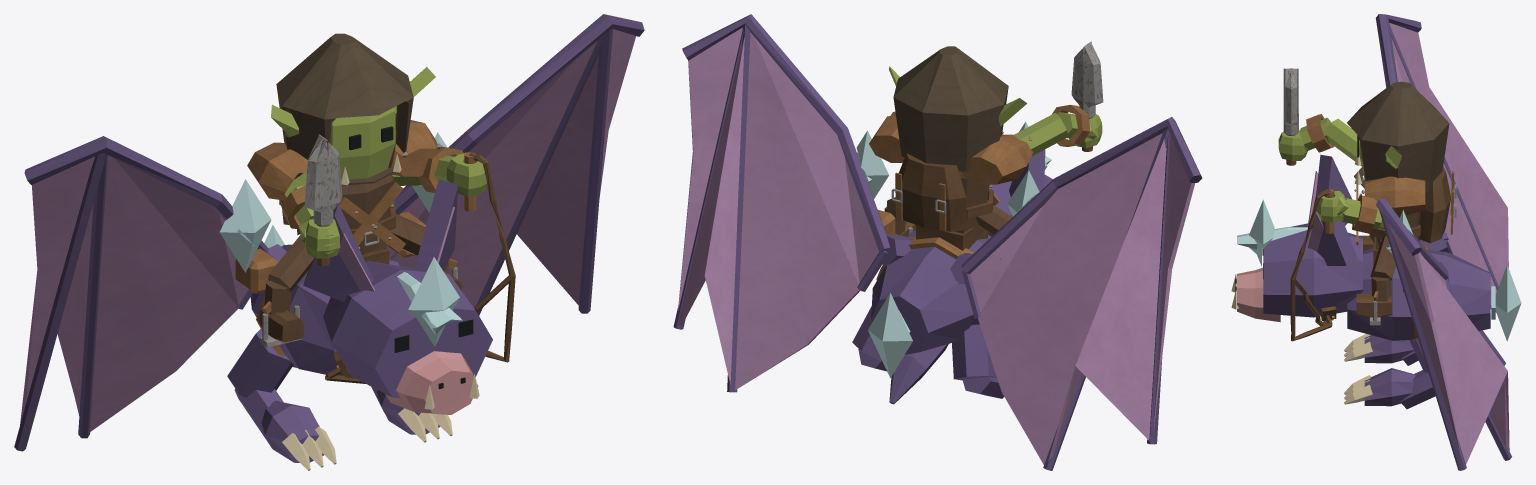
File: host_29.glb
3 renders of one model, left to right at view 1: azimuth 30°, elevation 25°; view 2: azimuth 150°, elevation 25°; view 3: azimuth 270°, elevation 25°, orthographic. The views are drawn at different scales.
Visible parts, largest first — view 1: Bat source connected muzzle, skull, native limbs and membran, Rider one connected body, skull, ears, two arms, compact pal, Rider true deep peaked open source cowl, One of EXACT FOUR substantial pale source shield crystals 0, One of EXACT FOUR substantial pale source shield crystals 2, Rider RIGHT source weapon real volumetric blade, Rider actual convex three-plane source pauldron 1, Rider actual convex three-plane source pauldron -1, Rider real shaped source torso clothing shell, Rider connected bridle rein 1, Rider compact source saddle pouch 1, Rider connected bridle rein -1 (+5 smaller); view 2: Bat source connected muzzle, skull, native limbs and membran, Rider true deep peaked open source cowl, Rider actual source broad rear leather pack, Rider one connected body, skull, ears, two arms, compact pal, Rider actual convex three-plane source pauldron 1, One of EXACT FOUR substantial pale source shield crystals 3, Rider RIGHT source weapon real volumetric blade, Rider actual convex three-plane source pauldron -1, One of EXACT FOUR substantial pale source shield crystals 1, Source small curved seat following actual bat back, Rider RIGHT actual open sleeve cuff, Rider real shaped source torso clothing shell (+2 smaller); view 3: Bat source connected muzzle, skull, native limbs and membran, Rider true deep peaked open source cowl, Rider one connected body, skull, ears, two arms, compact pal, Rider actual convex three-plane source pauldron -1, Rider actual source broad rear leather pack, One of EXACT FOUR substantial pale source shield crystals 0, One of EXACT FOUR substantial pale source shield crystals 3, Rider RIGHT source weapon real volumetric blade, Rider connected bridle rein -1, Rider LEFT actual open sleeve cuff, Rider connected bridle rein 1, Rider RIGHT actual open sleeve cuff (+1 smaller).
Boxes of the visible parts, x1=… form: Bat source connected muzzle, skull, native limbs and membran: x1=14, y1=14, x2=644, y2=470; Rider one connected body, skull, ears, two arms, compact pal: x1=259, y1=67, x2=487, y2=342; Rider true deep peaked open source cowl: x1=276, y1=33, x2=413, y2=185; One of EXACT FOUR substantial pale source shield crystals 0: x1=397, y1=257, x2=462, y2=346; One of EXACT FOUR substantial pale source shield crystals 2: x1=219, y1=179, x2=271, y2=272; Rider RIGHT source weapon real volumetric blade: x1=304, y1=134, x2=342, y2=213; Rider actual convex three-plane source pauldron 1: x1=247, y1=142, x2=307, y2=200; Rider actual convex three-plane source pauldron -1: x1=388, y1=120, x2=438, y2=176; Rider real shaped source torso clothing shell: x1=333, y1=168, x2=393, y2=254; Rider connected bridle rein 1: x1=325, y1=152, x2=513, y2=383; Rider compact source saddle pouch 1: x1=235, y1=248, x2=278, y2=293; Rider connected bridle rein -1: x1=485, y1=238, x2=515, y2=362; Bat source connected muzzle, skull, native limbs and membran: x1=673, y1=14, x2=1202, y2=470; Rider true deep peaked open source cowl: x1=893, y1=46, x2=1008, y2=171; Rider actual source broad rear leather pack: x1=899, y1=153, x2=966, y2=231; Rider one connected body, skull, ears, two arms, compact pal: x1=884, y1=66, x2=1102, y2=237; Rider actual convex three-plane source pauldron 1: x1=961, y1=134, x2=1033, y2=184; One of EXACT FOUR substantial pale source shield crystals 3: x1=868, y1=292, x2=912, y2=378; Rider RIGHT source weapon real volumetric blade: x1=1071, y1=41, x2=1103, y2=107; Rider actual convex three-plane source pauldron -1: x1=869, y1=115, x2=904, y2=162; One of EXACT FOUR substantial pale source shield crystals 1: x1=856, y1=130, x2=889, y2=198; Source small curved seat following actual bat back: x1=916, y1=225, x2=987, y2=250; Rider RIGHT actual open sleeve cuff: x1=1052, y1=104, x2=1090, y2=146; Rider real shaped source torso clothing shell: x1=958, y1=171, x2=989, y2=229; Bat source connected muzzle, skull, native limbs and membran: x1=1237, y1=14, x2=1511, y2=470; Rider true deep peaked open source cowl: x1=1347, y1=81, x2=1449, y2=191; Rider one connected body, skull, ears, two arms, compact pal: x1=1278, y1=117, x2=1416, y2=317; Rider actual convex three-plane source pauldron -1: x1=1364, y1=176, x2=1425, y2=216; Rider actual source broad rear leather pack: x1=1418, y1=166, x2=1451, y2=243; One of EXACT FOUR substantial pale source shield crystals 0: x1=1237, y1=199, x2=1307, y2=266; One of EXACT FOUR substantial pale source shield crystals 3: x1=1491, y1=264, x2=1521, y2=341; Rider RIGHT source weapon real volumetric blade: x1=1283, y1=68, x2=1298, y2=125; Rider connected bridle rein -1: x1=1290, y1=251, x2=1332, y2=341; Rider LEFT actual open sleeve cuff: x1=1352, y1=195, x2=1377, y2=233; Rider connected bridle rein 1: x1=1295, y1=189, x2=1330, y2=325; Rider RIGHT actual open sleeve cuff: x1=1306, y1=114, x2=1334, y2=152.
Bounding box in the file's own units: 2.92 × 1.82 × 1.57.
Materials: 31 (25 with a texture image).
